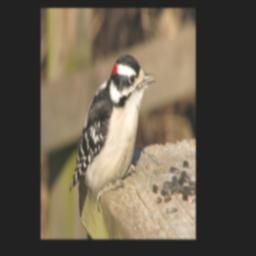Woodpecker: (68, 56, 158, 213)
